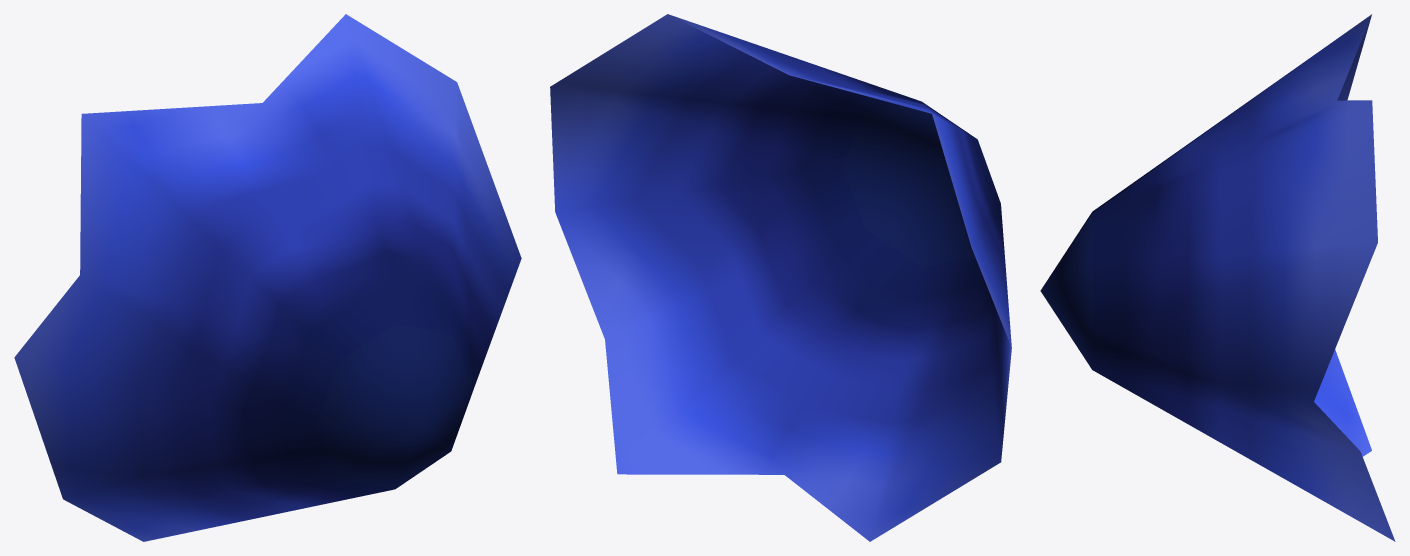
Rendered from batch_0068.obj.
3 views of the same model, side by side, from view 1: azimuth 30°, elevation 25°; view 2: azimuth 150°, elevation 25°; view 3: azimuth 270°, elevation 25° (orthographic). The views are drawn at different scales.
Visible parts, largest first — view 1: batch_0068; view 2: batch_0068; view 3: batch_0068.
Boxes of the visible parts, x1,y1,x2,y2 form: batch_0068: (14,14,521,541); batch_0068: (550,14,1011,541); batch_0068: (1040,14,1395,541).
Bounding box in the file's own units: 19.8 × 18.79 × 13.7.
1 material, 1 textured.
